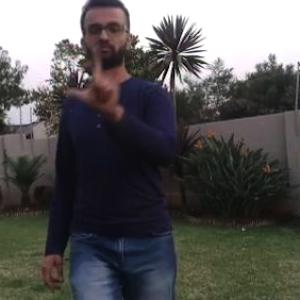land_hand: (65, 40, 120, 112)
